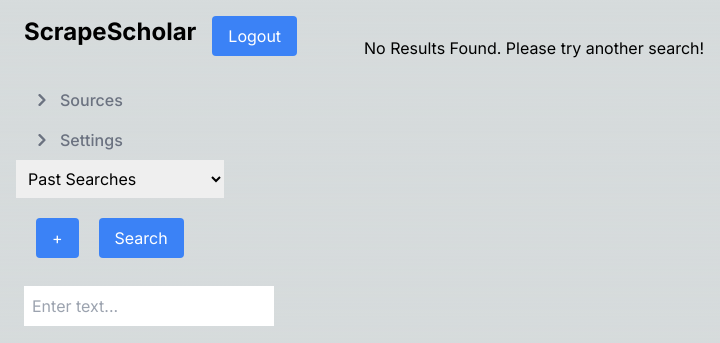
SearchView Component › blank search prompts to enter a keyword search
Click the button "Search" at (141, 238), box [99,218,184,258]
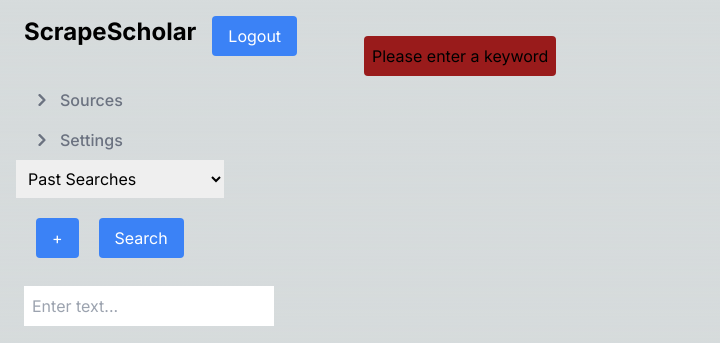
expect the text "Please enter a keyword" is shown: met, box [364,36,556,76]
